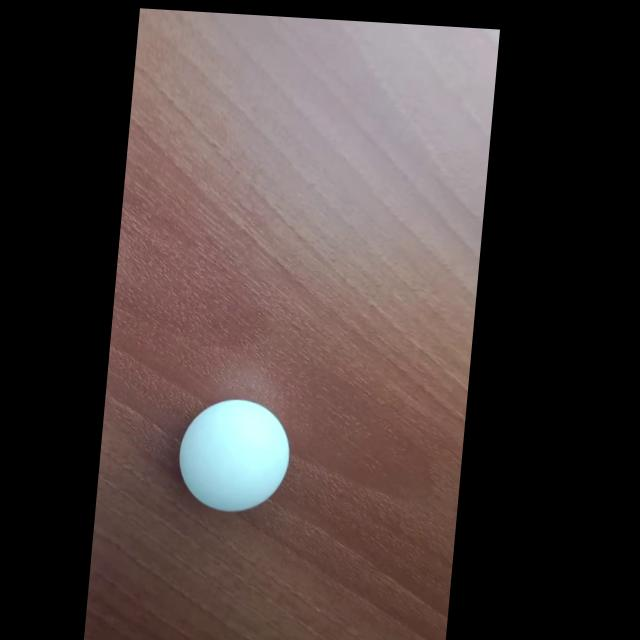white ball: (173, 396, 294, 516)
